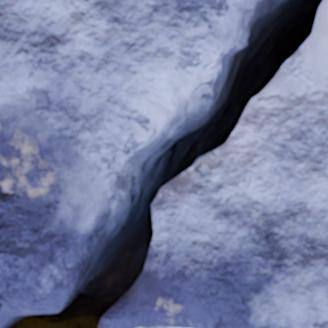broken_brick: (0, 0, 247, 315), (100, 0, 327, 327)
crack: (0, 0, 326, 327)
